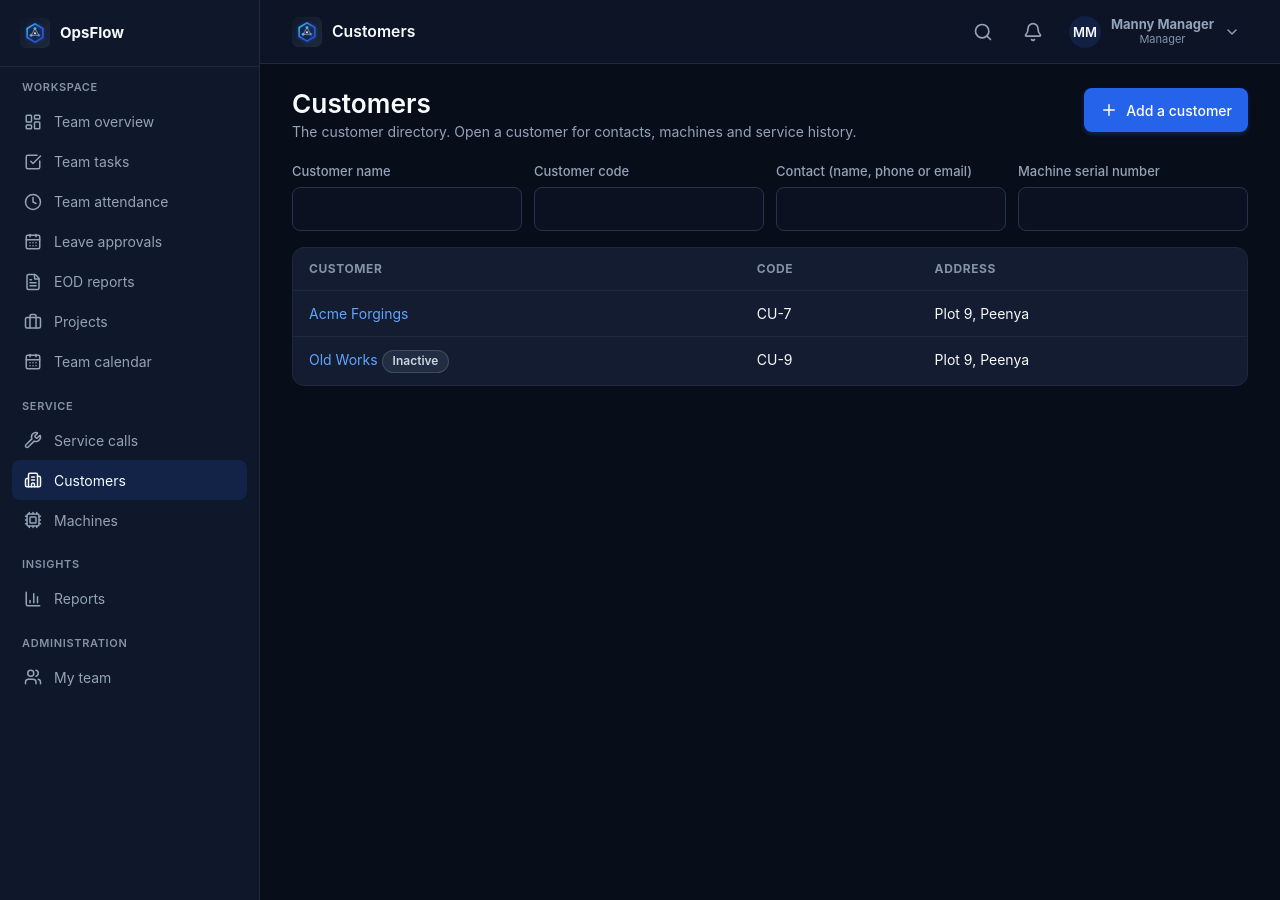
Customers › shows the server's reason when the code is taken
Step 1. Click the button "Add a customer" → (1166, 110), box [1084, 88, 1248, 132]
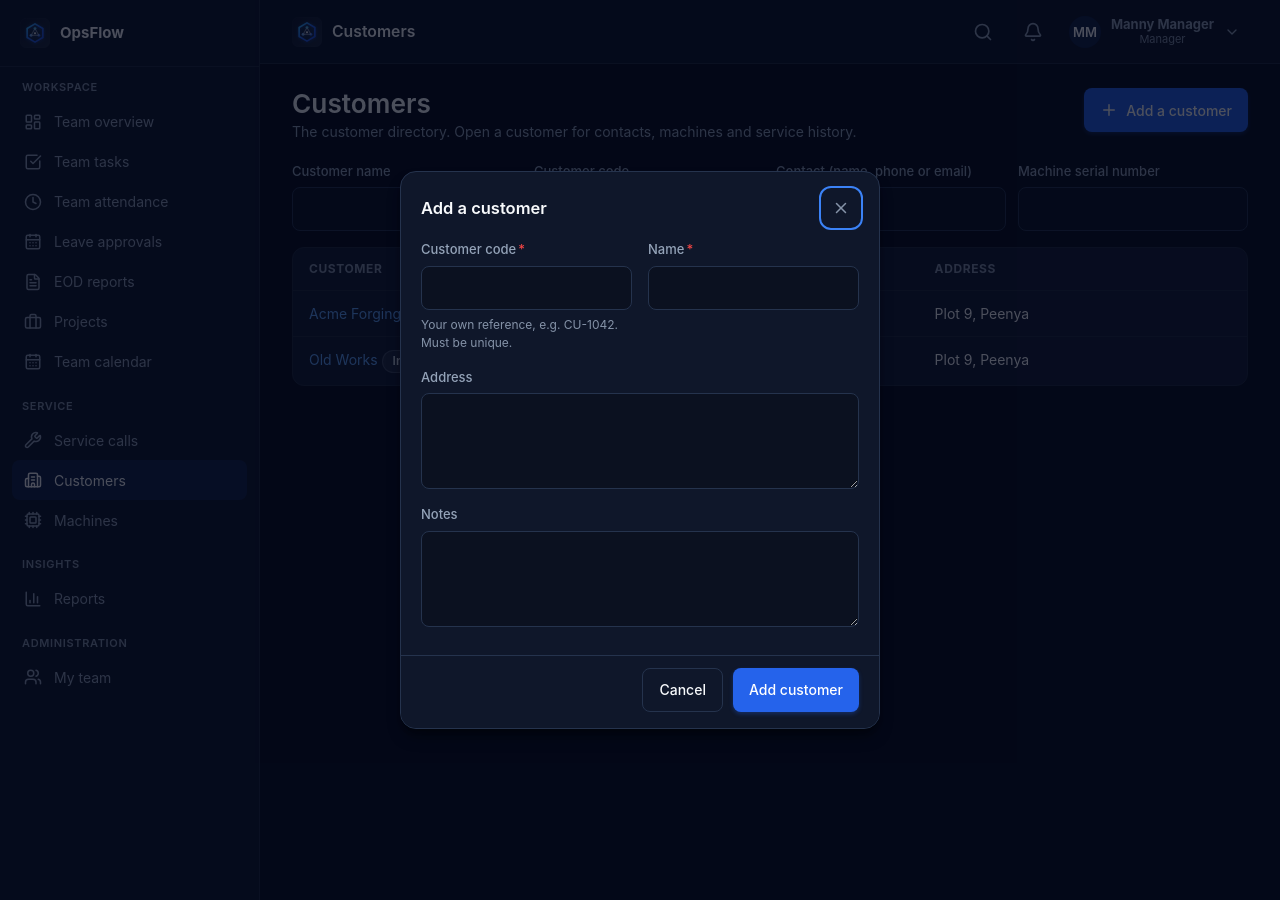
Step 2. Type "CU-7" into the field labelled "Customer code*" → (526, 288), box [421, 266, 632, 310]
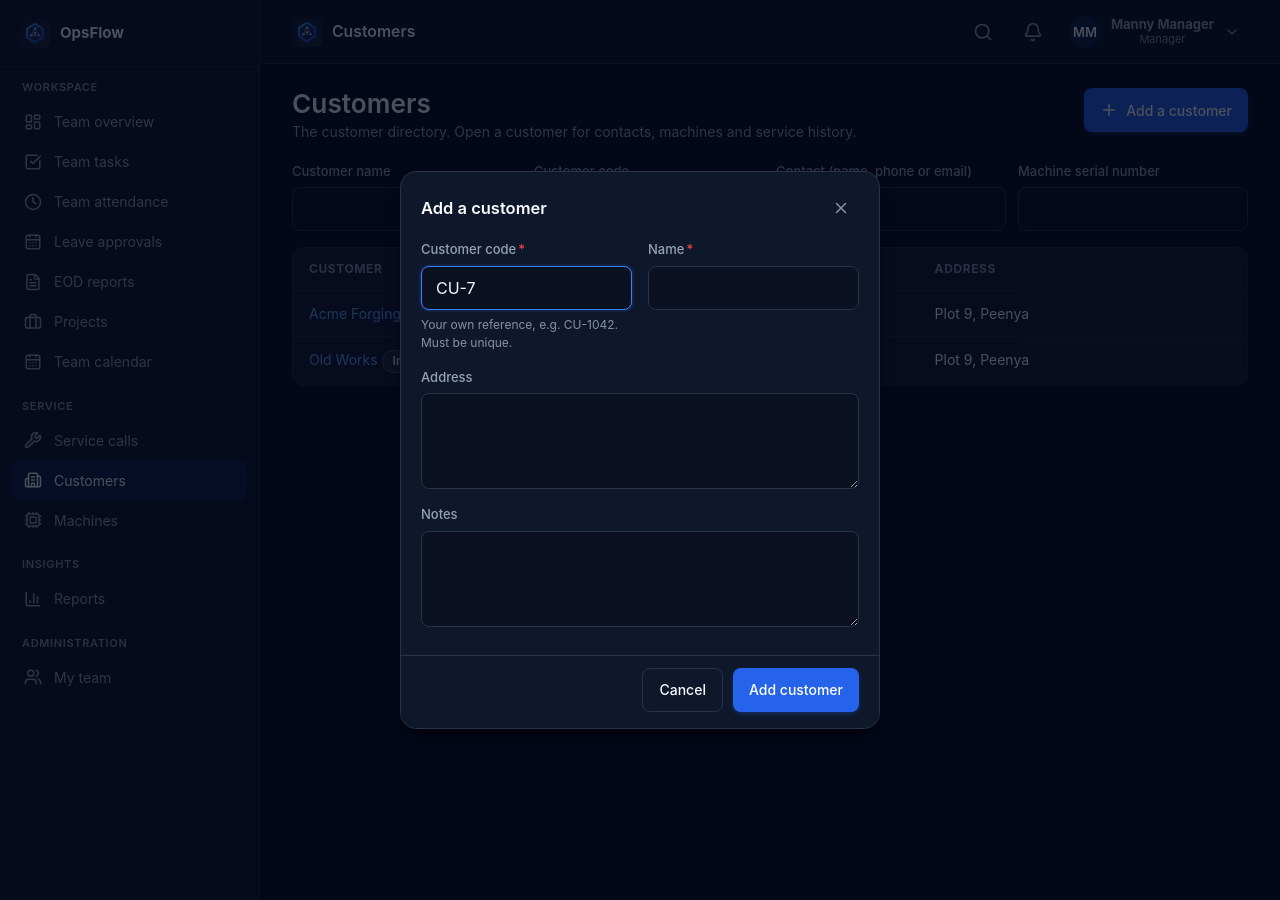
Step 3. Type "Dup" into the field labelled "Name*" → (754, 288), box [648, 266, 859, 310]
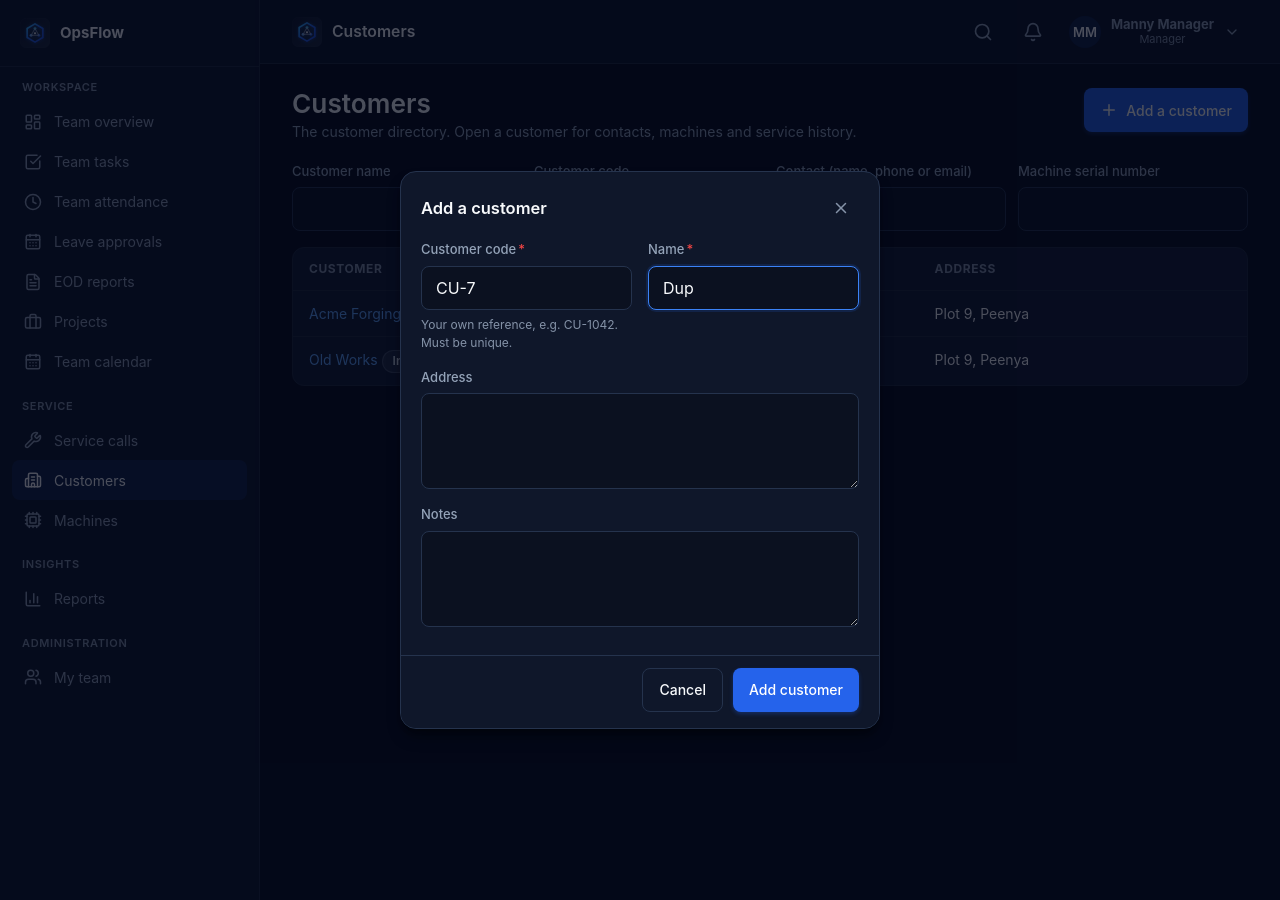
Step 4. Click the button "Add customer" → (796, 690), box [733, 668, 859, 712]
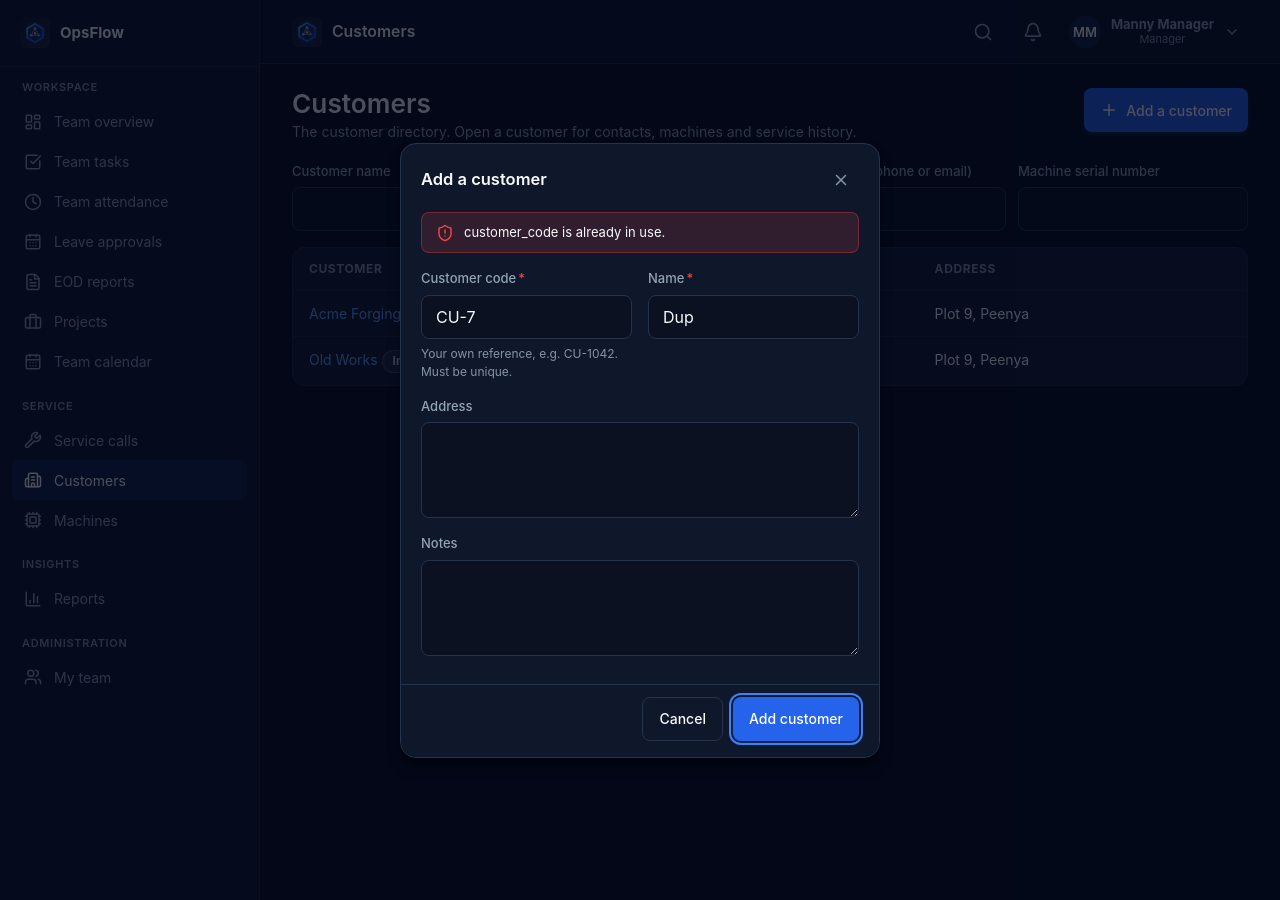
Expected: the text "customer_code is already in use." is shown, [464, 222, 665, 242]
